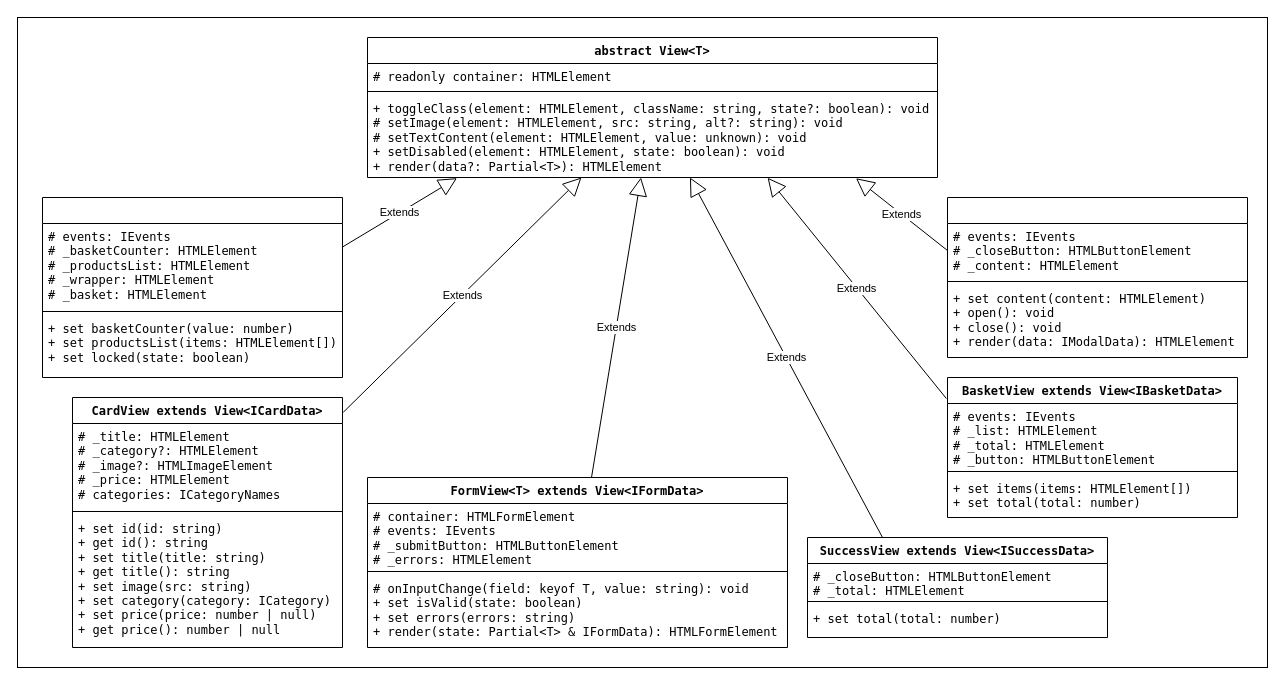
Some shapes in this 1285 by 685 pixel diagram are drawn without their labels. The shapes that lost their labels are listed below. From the top down, each one's box as (x1, y1, x2, y2) in pixels, then its label:
(42, 196, 342, 378): PageView extends View<IPageData>
(946, 196, 1248, 358): ModalView extends View<IModalData>
